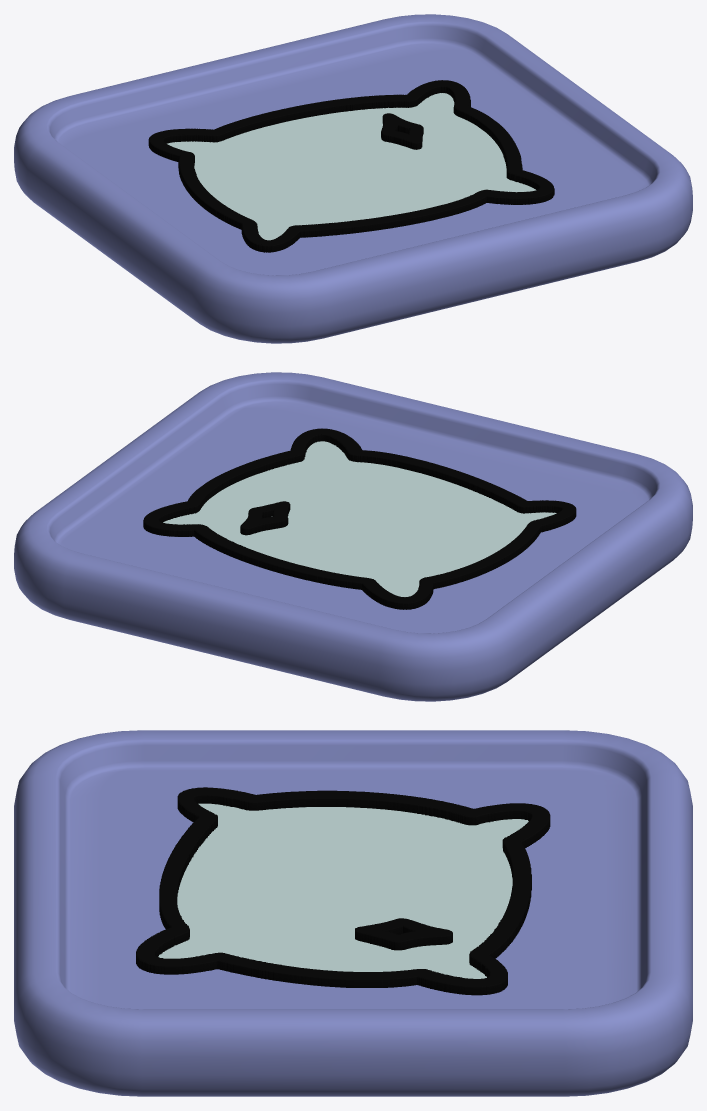
The model's file is pillow_tile.fbx.
3 views of the same model, one above another, from view 1: azimuth 30°, elevation 25°; view 2: azimuth 150°, elevation 25°; view 3: azimuth 270°, elevation 25° (orthographic). The views are drawn at different scales.
Visible parts, largest first — view 1: pillow_cube, pillow_lines; view 2: pillow_cube, pillow_lines; view 3: pillow_cube, pillow_lines.
Part boxes in pixels (x1,y1,x2,y2): pillow_cube: (14,14,692,343); pillow_lines: (148,80,554,252); pillow_cube: (14,372,692,701); pillow_lines: (143,428,576,609); pillow_cube: (14,730,692,1096); pillow_lines: (136,787,550,995).
Bounding box in the file's own units: 1201 × 143 × 1128.
